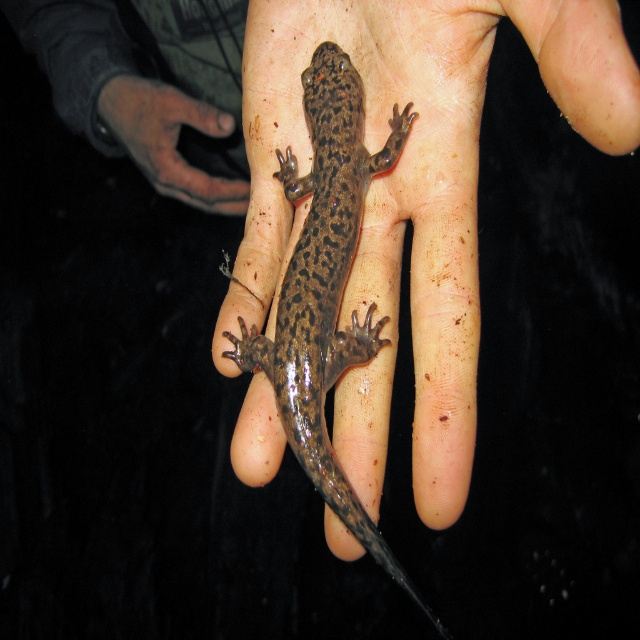Lizard: (222, 36, 441, 637)
